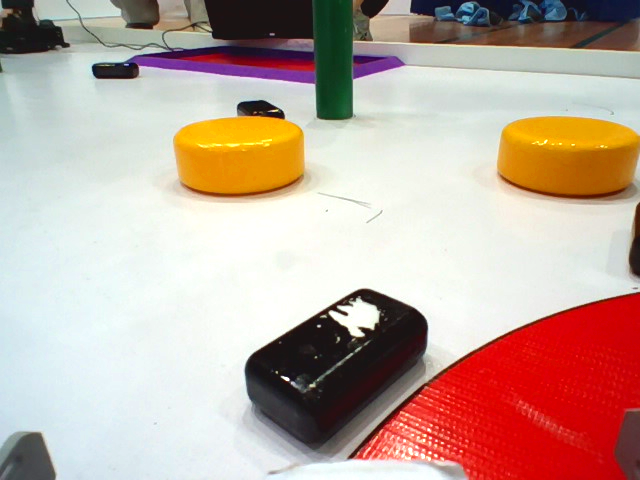black: (211, 285, 451, 455), (227, 96, 302, 130), (86, 54, 146, 89)
kuang: (120, 36, 411, 94)
yellow: (117, 118, 334, 203), (494, 107, 640, 200)
zhuzi: (296, 1, 363, 128)
